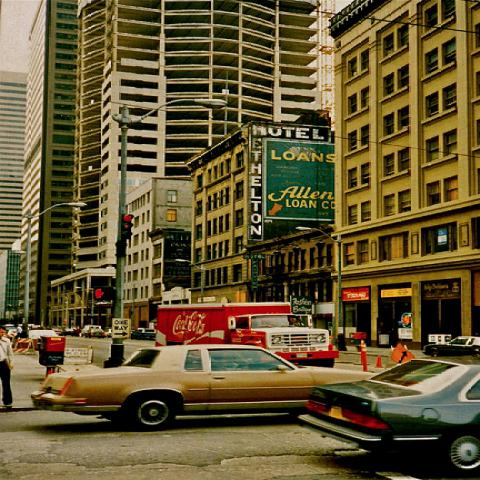car: (32, 345, 379, 429), (296, 353, 478, 472), (420, 335, 479, 358), (80, 325, 106, 338), (128, 330, 156, 340), (29, 329, 58, 338), (61, 328, 75, 337)
truck: (151, 301, 338, 368)
